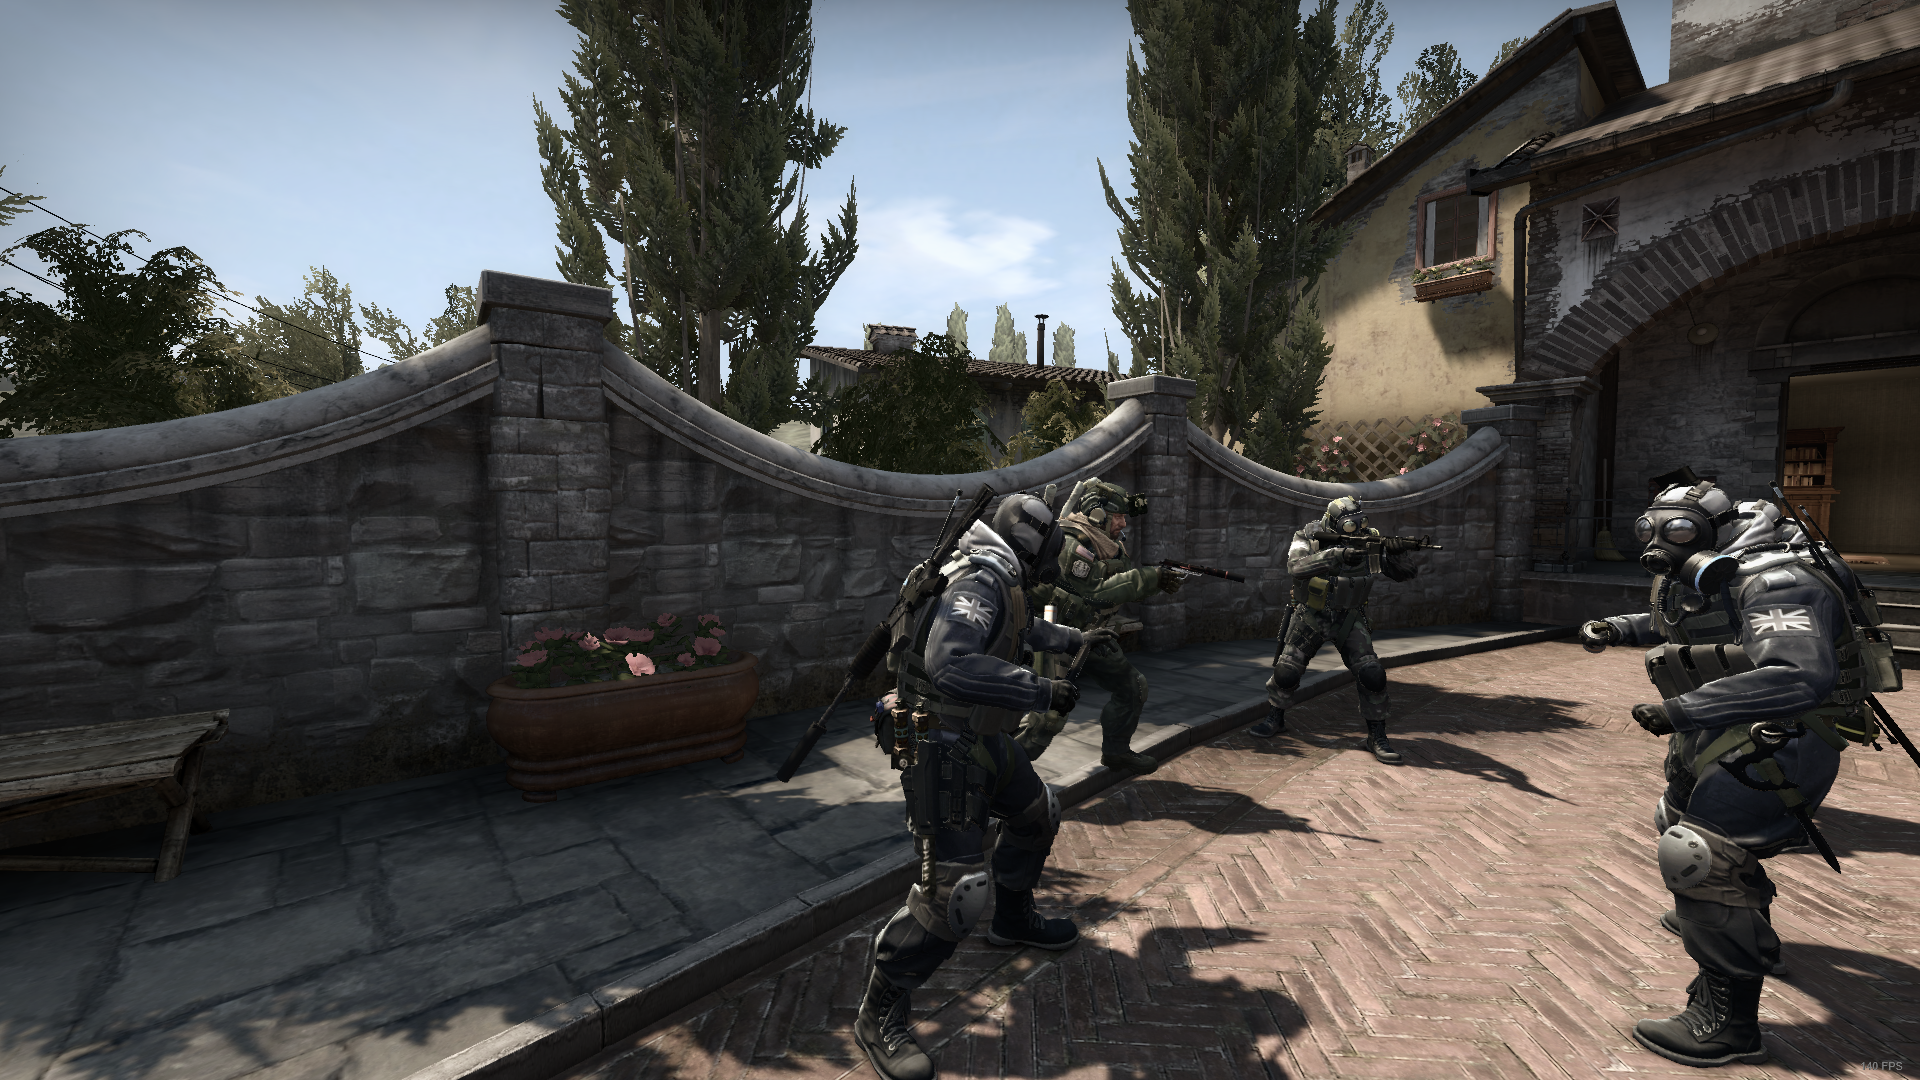ct: (1569, 476, 1894, 1080), (819, 488, 1130, 1079), (1244, 487, 1422, 764)
